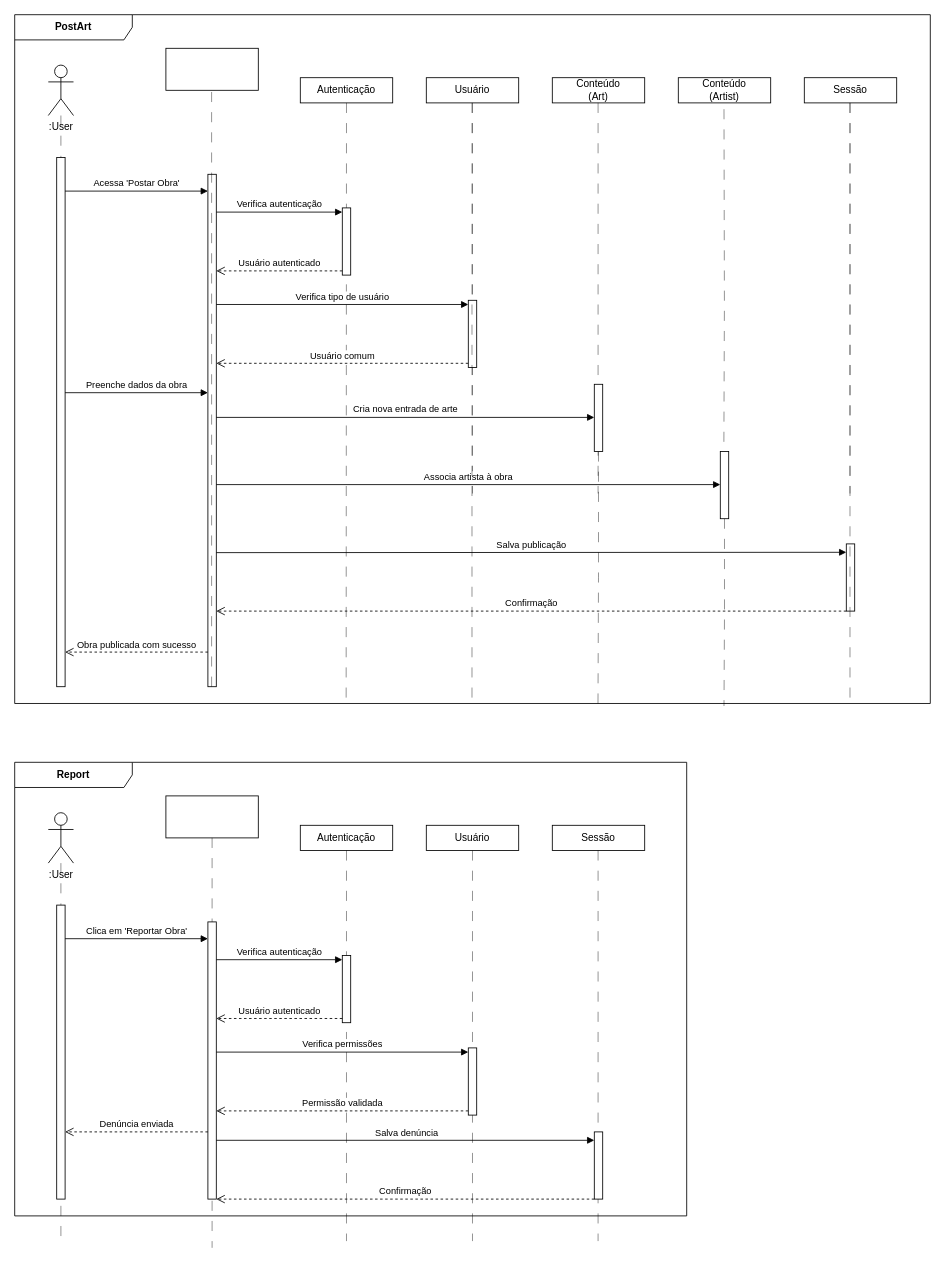
Image size: 945x1263. Some labels were removed from this diagram. The shapes that lost their labels are listed below. From the top down, each one's centre as x and y in pixels, then its label:
the point at 211,68: Interface de Interação (PostArt)
the point at 211,816: Interface de interação (Report)
